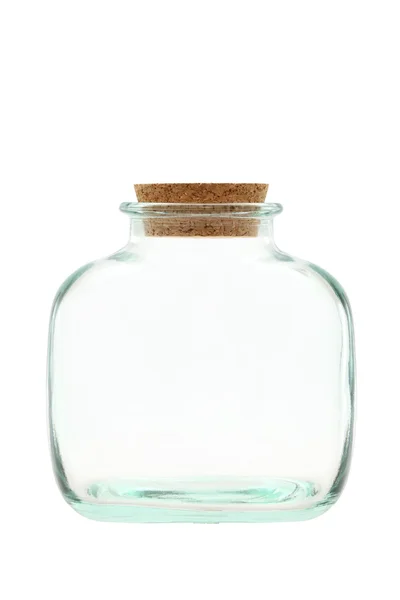glass_bottle: (36, 167, 380, 530)
